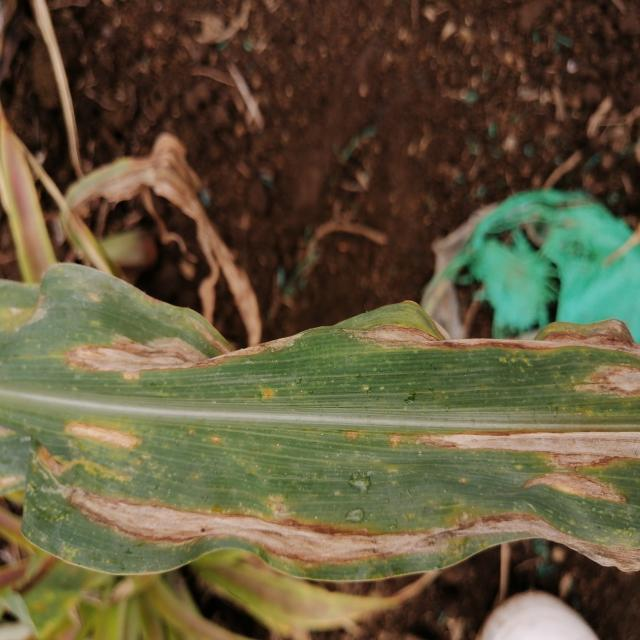Corn_Leaf_Blight: (0, 270, 640, 580)
